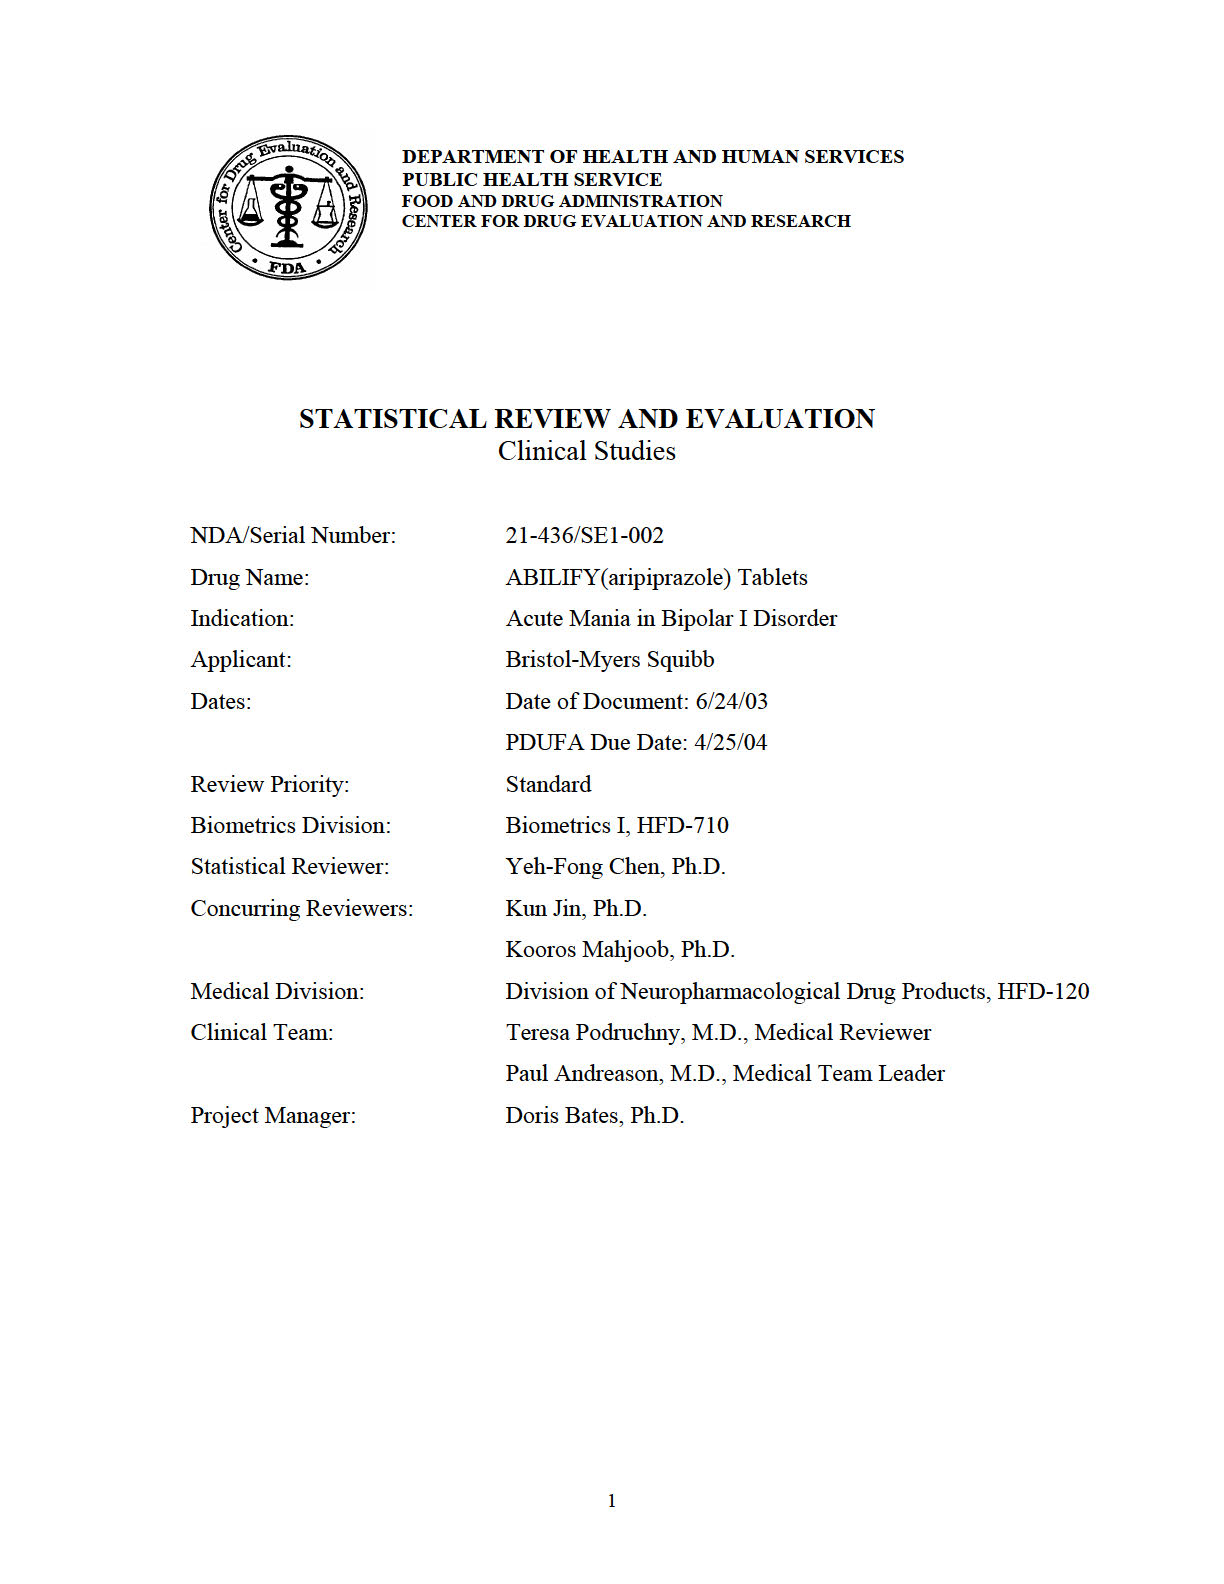nolines: (186, 523, 1095, 1129)
